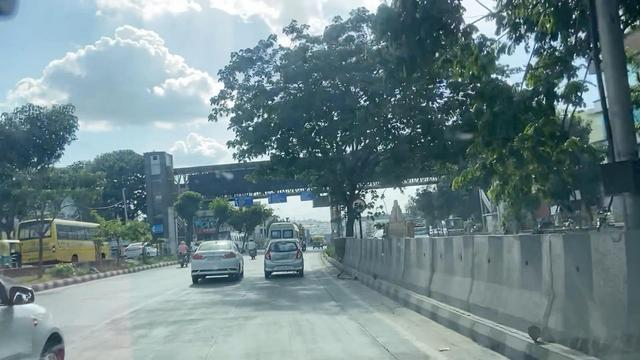LMV: (188, 239, 238, 278), (268, 238, 302, 278)
